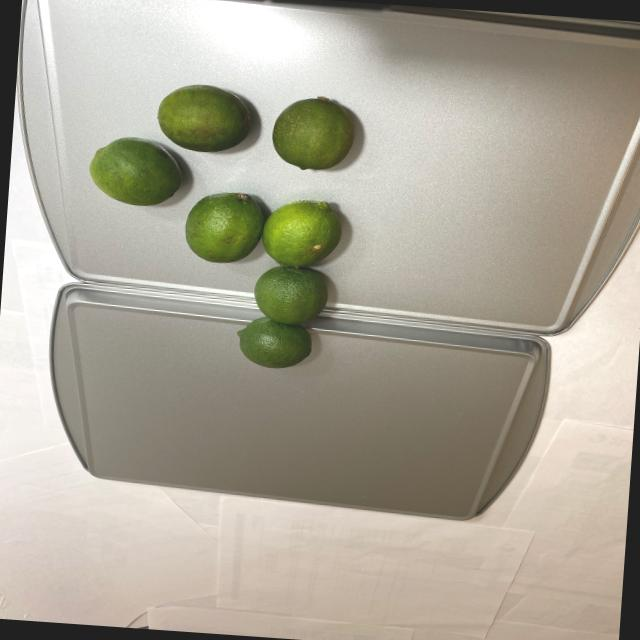lemon: (73, 67, 358, 376)
